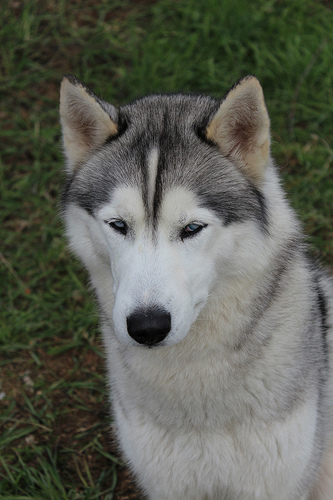dog: (56, 78, 326, 498)
